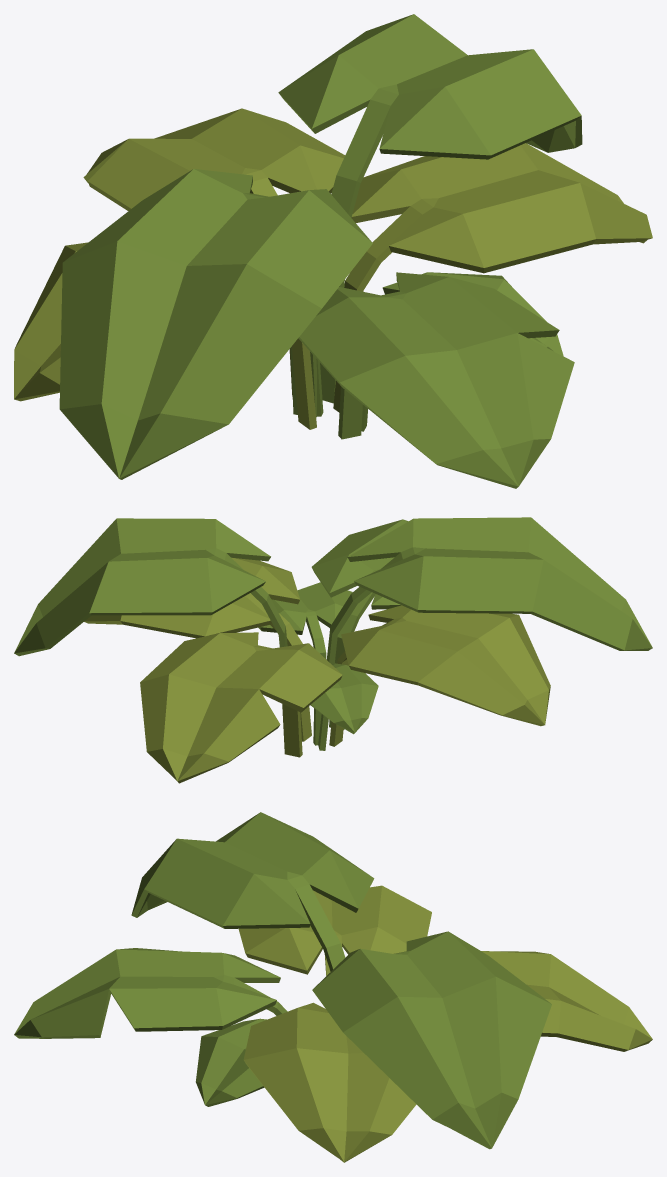
File: Plants_4.fbx
3 renders of one model, top to bottom at view 1: azimuth 30°, elevation 25°; view 2: azimuth 150°, elevation 25°; view 3: azimuth 270°, elevation 25°, orthographic. The views are drawn at different scales.
Visible parts, largest first — view 1: Plant_4; view 2: Plant_4; view 3: Plant_4.
Part boxes in pixels (x1=…): Plant_4: x1=14, y1=14, x2=652, y2=488; Plant_4: x1=14, y1=517, x2=652, y2=783; Plant_4: x1=14, y1=812, x2=652, y2=1162.
Bounding box in the file's own units: 161 × 66.06 × 177.
